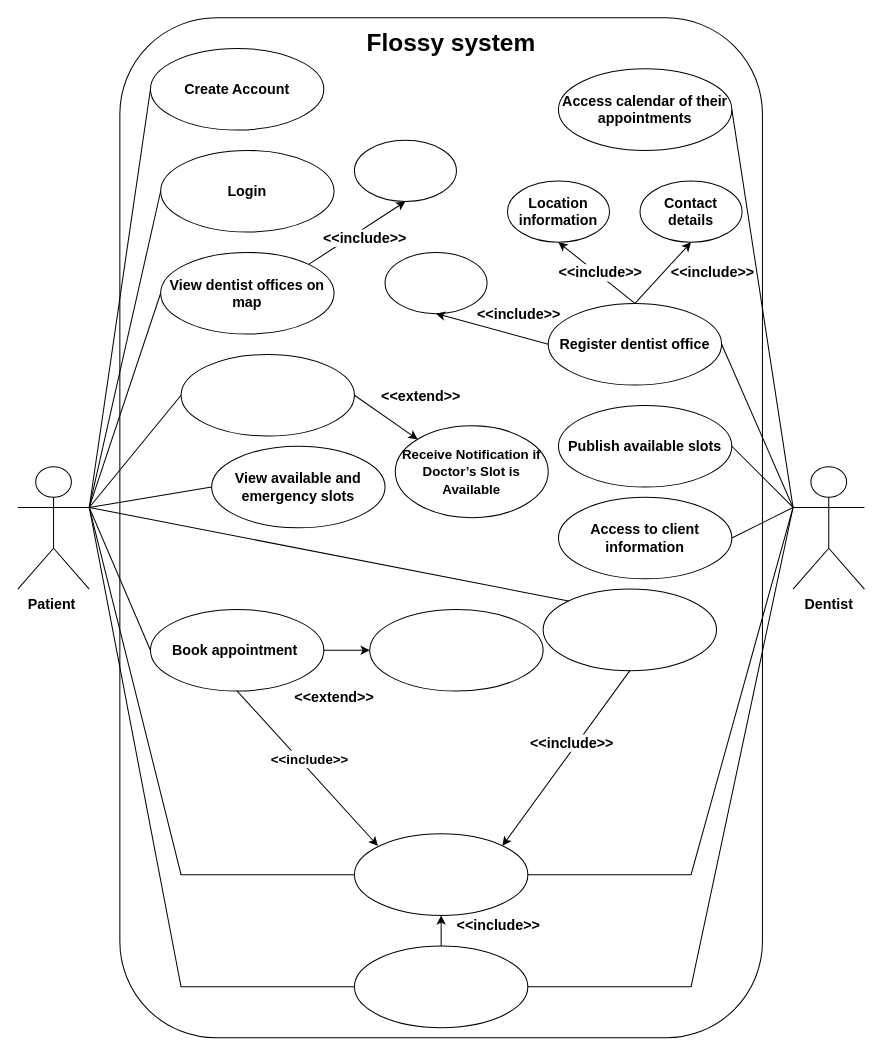
Image size: 882x1056. Some labels were removed from this diagram. The shapes that lost their labels are listed below. From the top down, each one's centre as x and y in pixels, then its label:
pixel 404 170: Filter by speciality
pixel 435 282: List of their dentist
pixel 267 394: Add to interst list
pixel 456 649: View appointment details
pixel 629 629: Reschedule appointment
pixel 440 874: Receive appointment notifications
pixel 440 986: Cancel appointment
